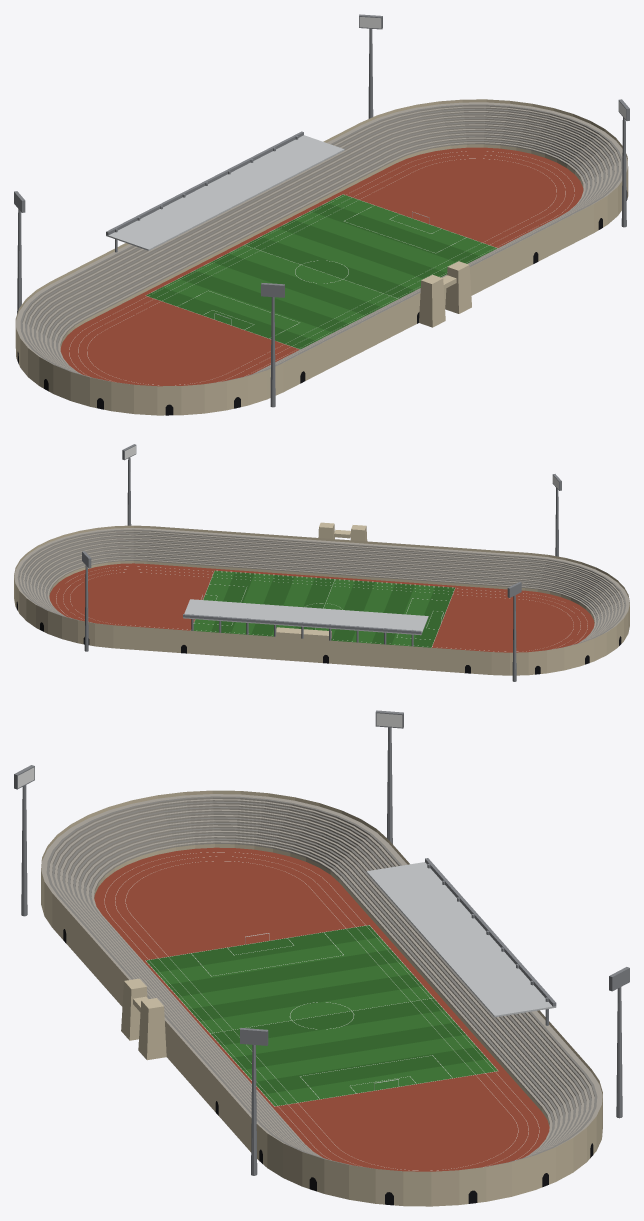
The model's file is stadium.glb.
3 renders of one model, top to bottom at view 1: azimuth 30°, elevation 25°; view 2: azimuth 150°, elevation 25°; view 3: azimuth 270°, elevation 25°, orthographic. The views are drawn at different scales.
Parts seen in each view (by area): view 1: AlexandriaStadium; view 2: AlexandriaStadium; view 3: AlexandriaStadium.
Boxes of the visible parts, x1,y1,x2,y2 form: AlexandriaStadium: (14, 14, 629, 415); AlexandriaStadium: (14, 444, 629, 681); AlexandriaStadium: (14, 710, 629, 1206).
Bounding box in the file's own units: 257 × 45.5 × 175.
1 material, 1 textured.
